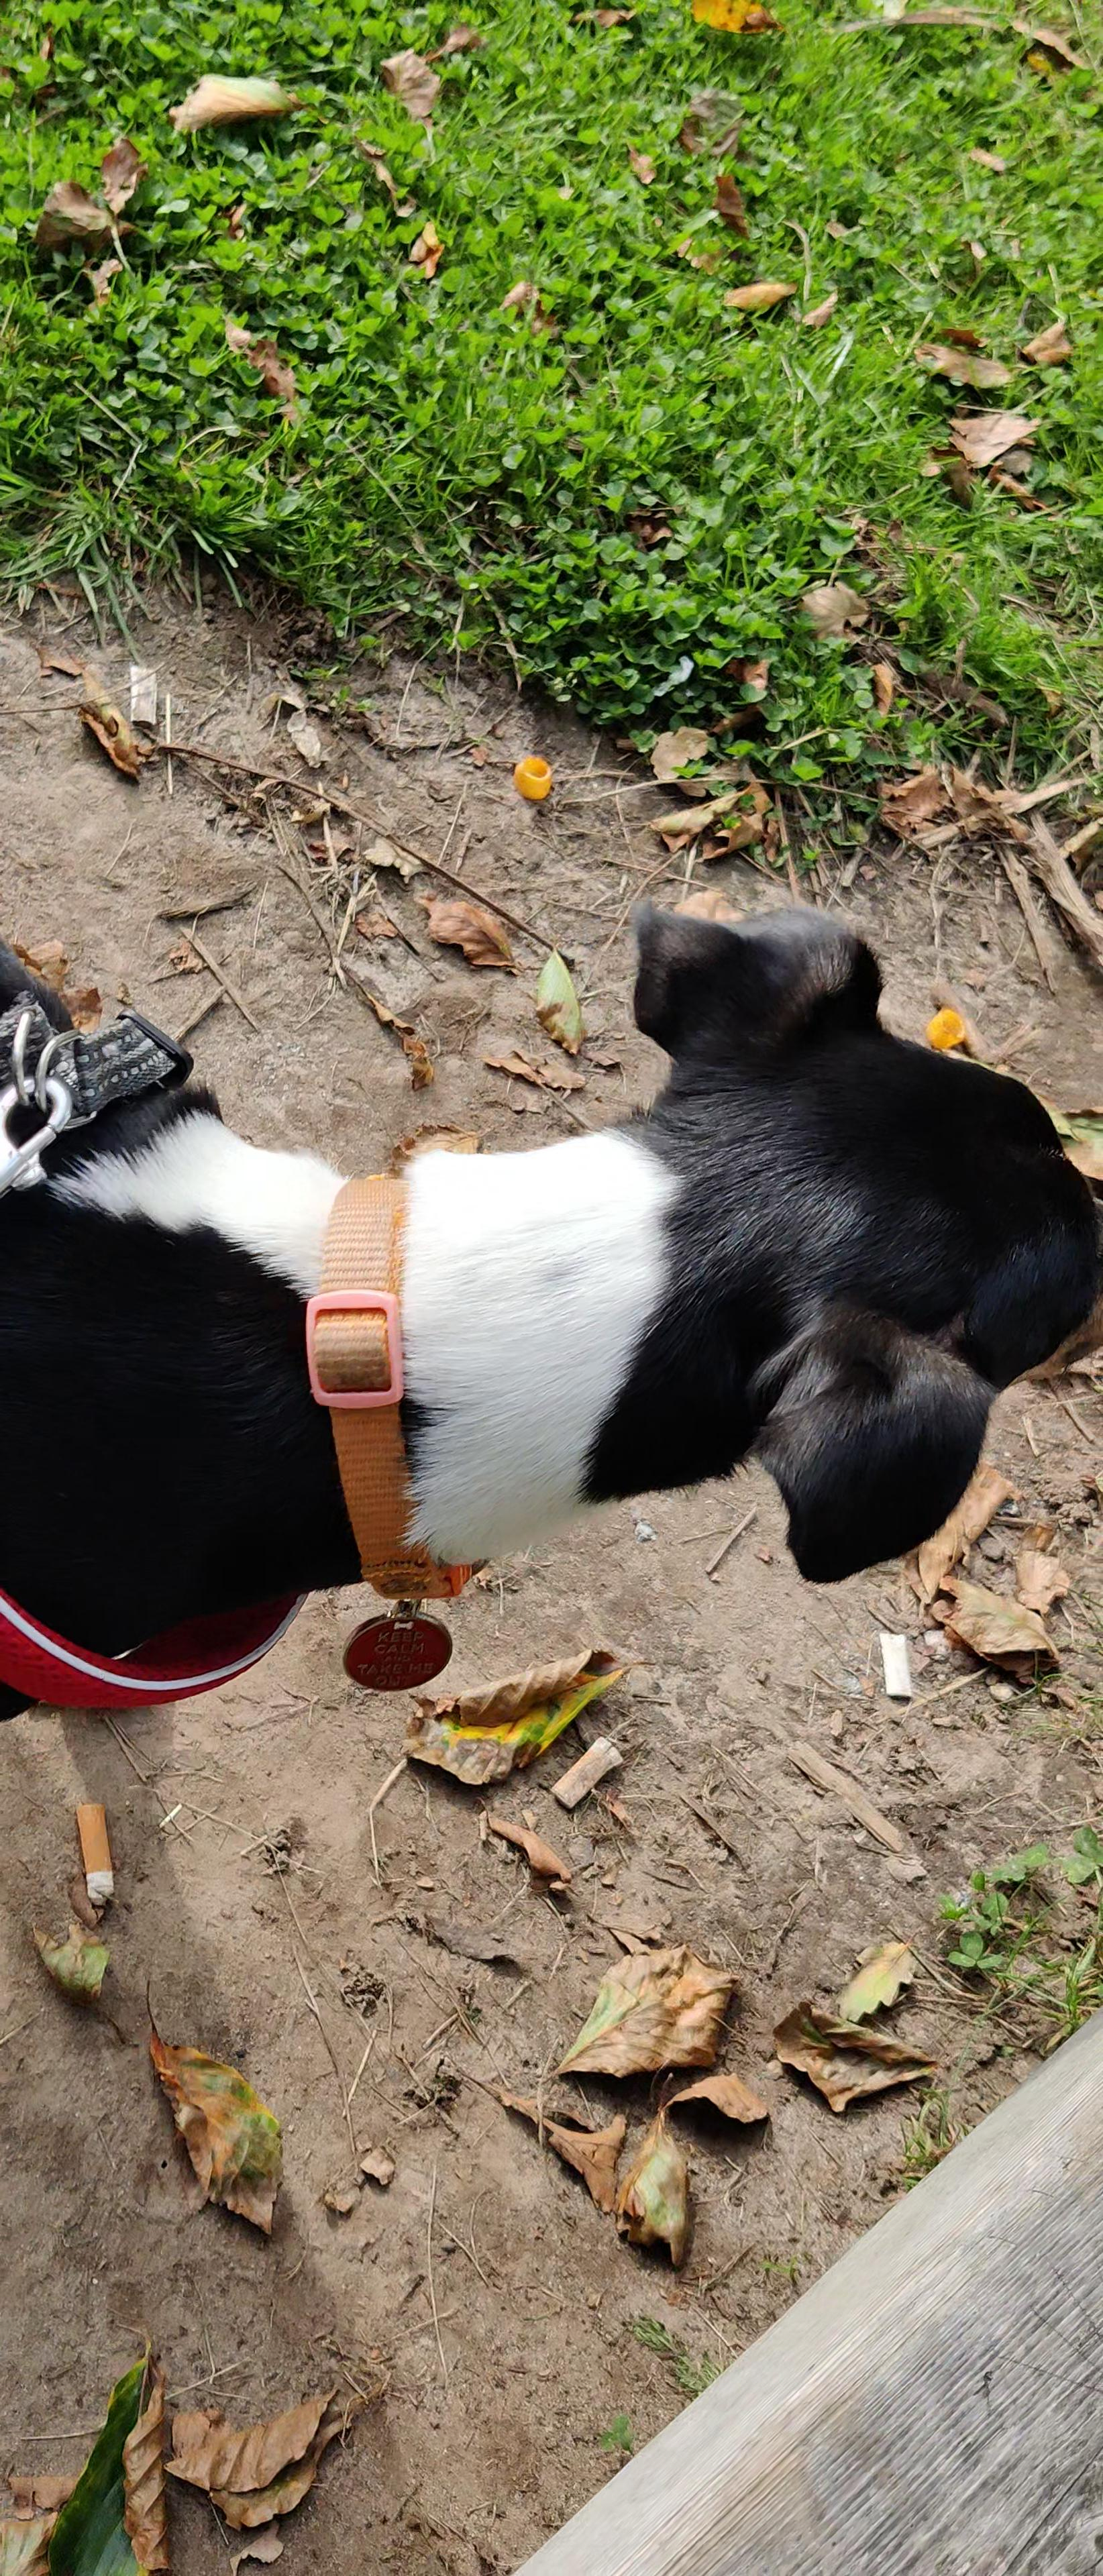Dog: (0, 872, 1103, 1789)
